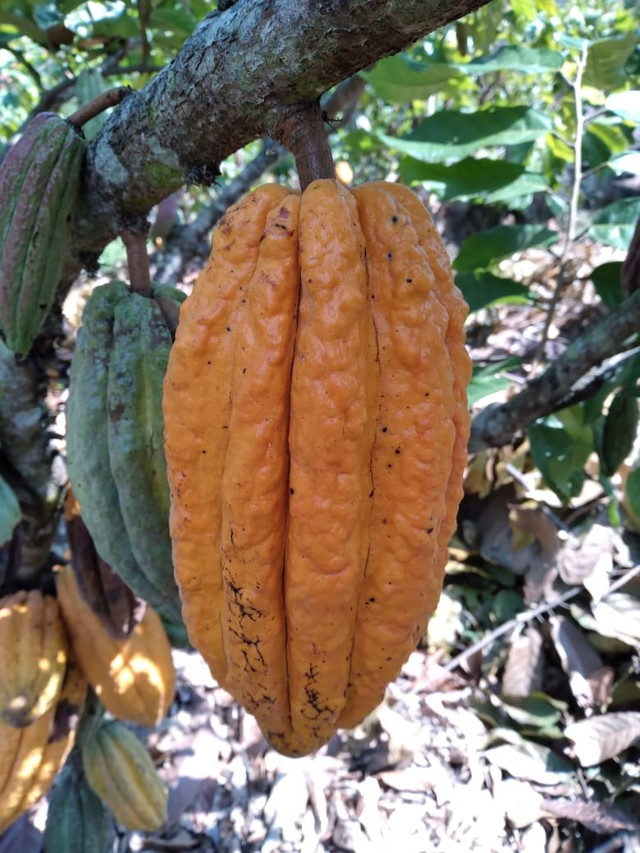Health: (158, 160, 480, 764)
